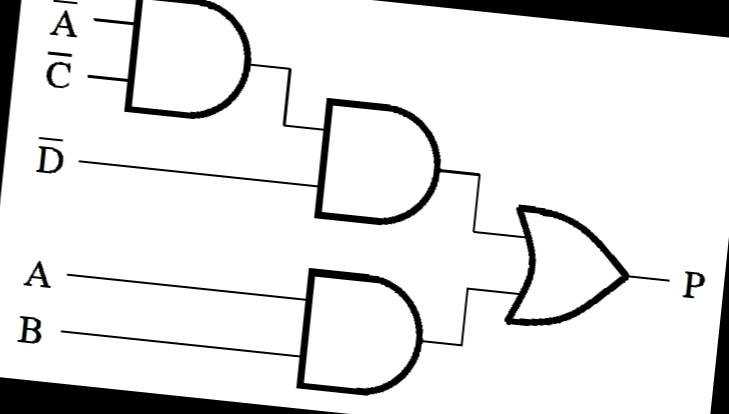and: (284, 260, 435, 408), (304, 89, 453, 236), (115, 0, 261, 130)
or: (491, 194, 640, 344)
